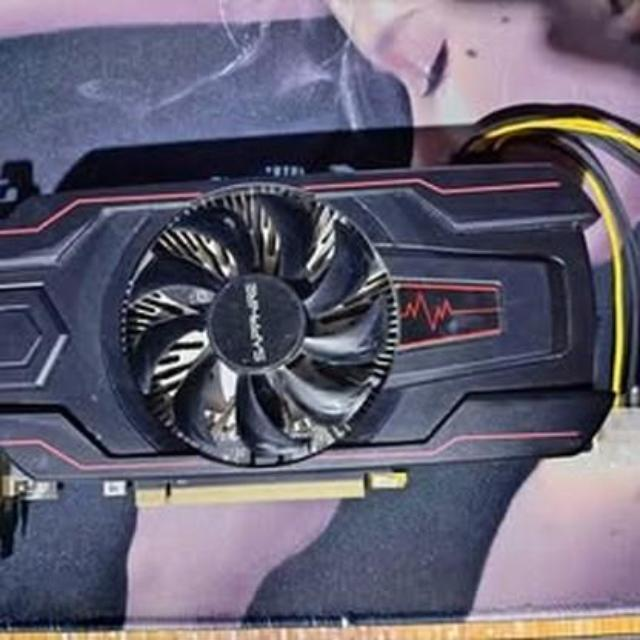GPU: (0, 128, 629, 528)
